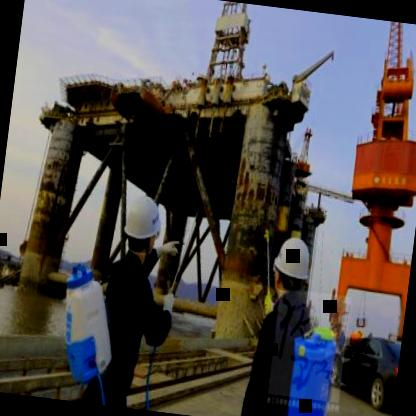helmet: (107, 182, 171, 266), (266, 231, 314, 304)
